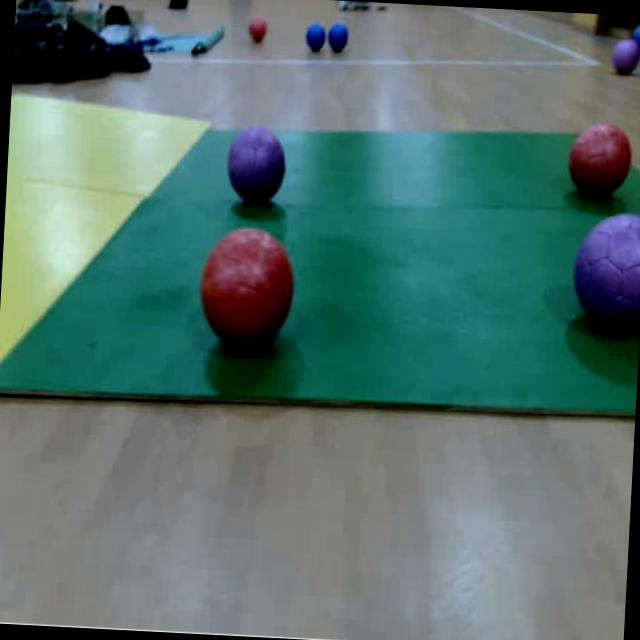blue_ball: (324, 19, 352, 55), (303, 20, 327, 57), (633, 20, 640, 47)
purple_ball: (568, 205, 640, 342), (224, 125, 288, 208), (611, 43, 640, 79)
red_ball: (196, 225, 298, 357), (565, 118, 635, 203), (246, 14, 268, 46)
